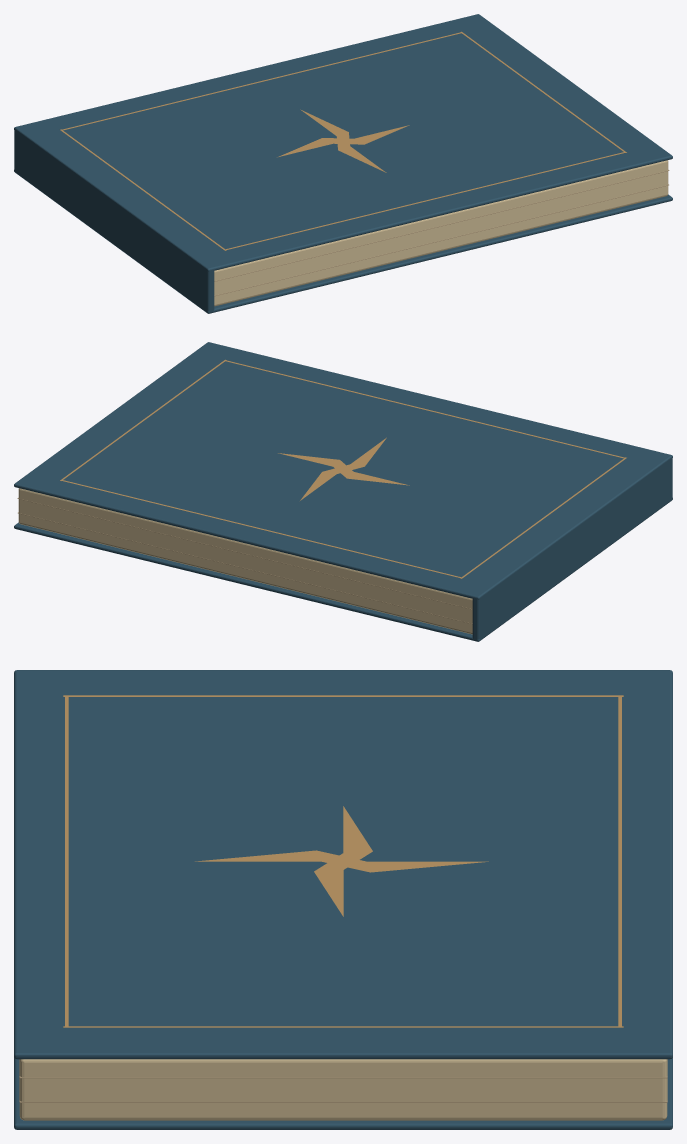
Rendered from atlasLarge.glb.
3 views of the same model, one above another, from view 1: azimuth 30°, elevation 25°; view 2: azimuth 150°, elevation 25°; view 3: azimuth 270°, elevation 25° (orthographic). The views are drawn at different scales.
Visible parts, largest first — view 1: atlasLarge; view 2: atlasLarge; view 3: atlasLarge.
Part boxes in pixels (left/top/right/bottom): atlasLarge: left=14, top=14, right=672, bottom=313; atlasLarge: left=14, top=342, right=672, bottom=641; atlasLarge: left=14, top=670, right=672, bottom=1129.
Bounding box in the file's own units: 0.29 × 0.027 × 0.21.
